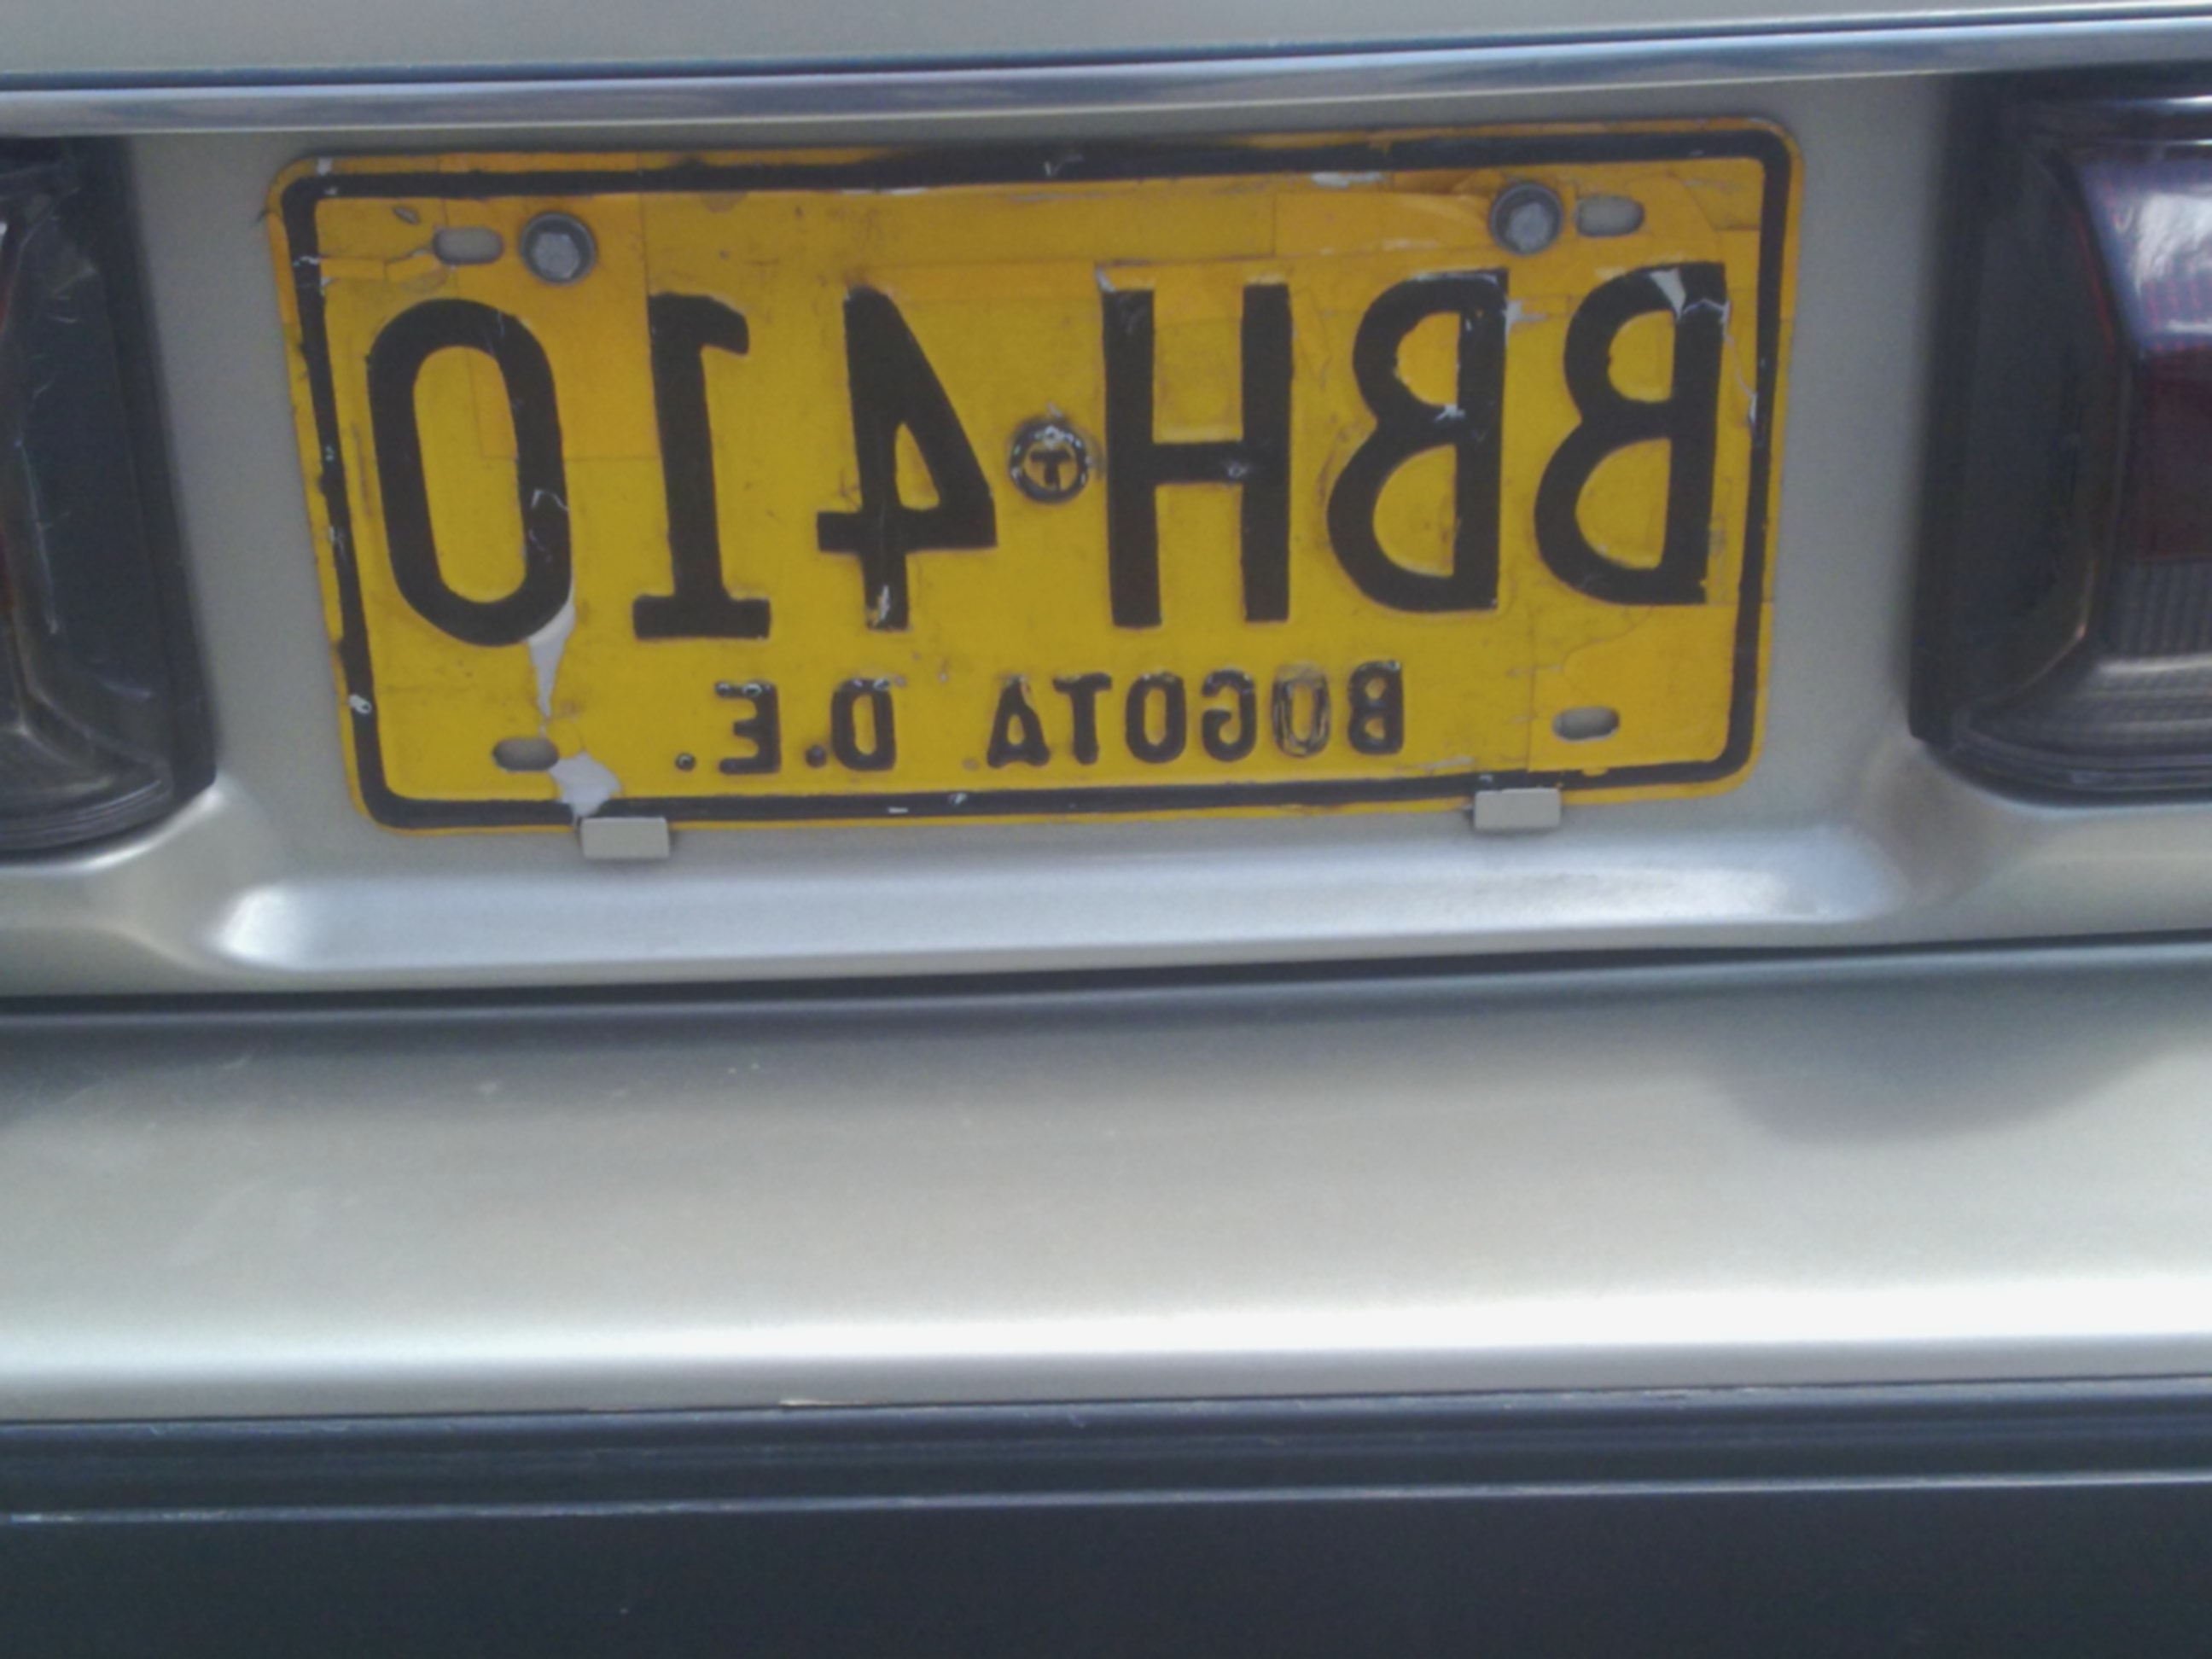placas: (263, 107, 1813, 840)
